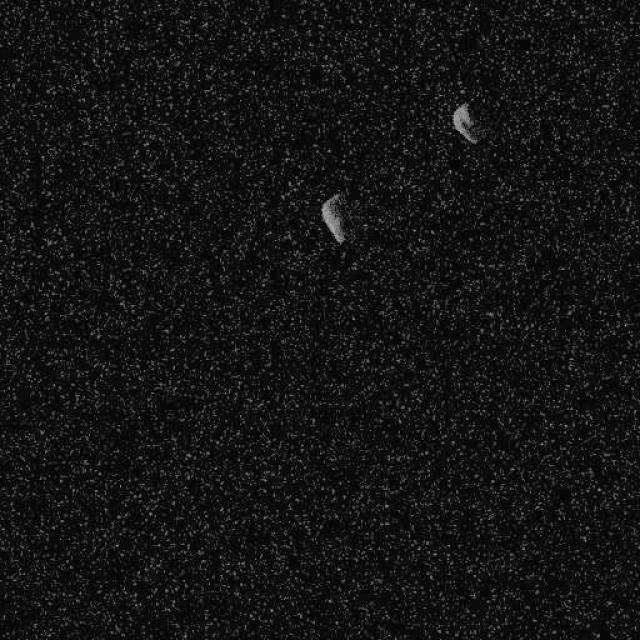D2: (320, 191, 346, 244), (451, 101, 479, 144)
